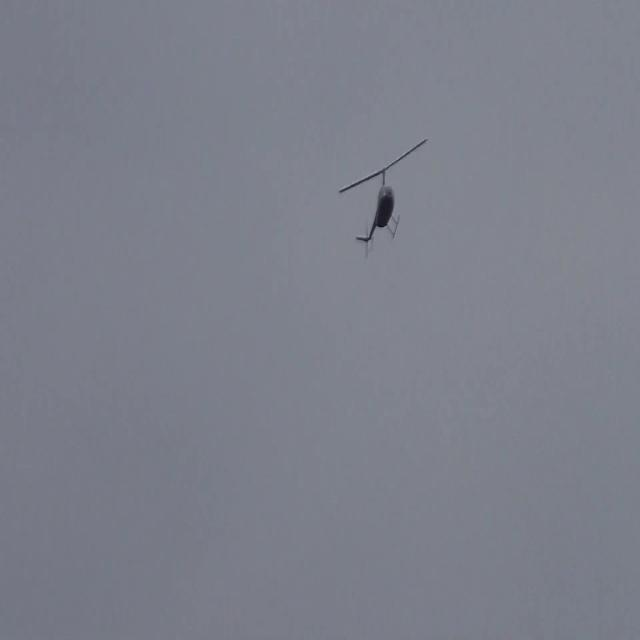CIV_HELO: (356, 165, 400, 242)
